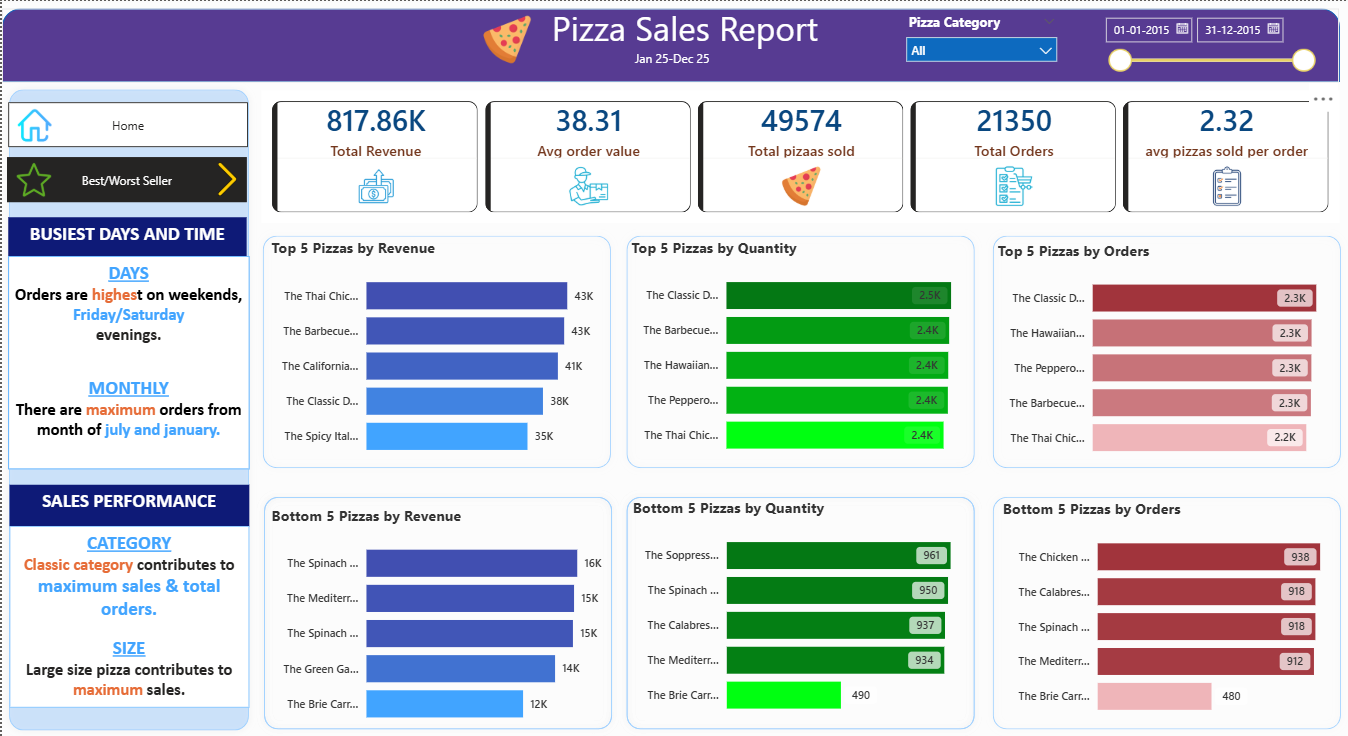

The dashboard page shown, as its layout file describes it:
{"tool":"powerbi","page":{"name":"Best/Worst Seller","canvas":[1500,820],"ordinal":1},"visuals":[{"type":"shape","box":[0,90.1,283,730.1],"z":0},{"type":"cardVisual","fields":{"Data":["pizza_sales.Total Revenue","pizza_sales.Avg order value","pizza_sales.Total pizaas sold","pizza_sales.Total Orders","pizza_sales.avg pizzas sold per order"]},"box":[284.1,94.7,1215.8,158.8],"z":1000},{"type":"shape","box":[0,8,1490.7,82],"z":2000},{"type":"textbox","box":[563.3,0,396.7,70],"z":3000},{"type":"textbox","box":[440,50,613.3,51.7],"z":4000},{"type":"image","box":[526.7,15,73.3,55],"z":5000},{"type":"shape","box":[283,254.1,403.6,275],"z":7000},{"type":"textbox","box":[6.4,241.2,265.3,43.4],"z":16000},{"type":"textbox","box":[6.4,284.6,268.5,238],"z":17000},{"type":"textbox","box":[8,538.7,266.9,46.6],"z":18000},{"type":"textbox","box":[8,585.3,266.9,202.6],"z":19000},{"type":"slicer","fields":{"Values":["pizza_sales.pizza_category"]},"box":[997,8,188.1,82],"z":20000},{"type":"slicer","fields":{"Values":["pizza_sales.order_date"]},"box":[1217.3,8,254.1,82],"z":21000},{"type":"shape","box":[688.3,254.1,403.6,275],"z":21001},{"type":"shape","box":[1096.7,254.1,403.6,275],"z":21002},{"type":"shape","box":[284.6,545.1,403.6,275],"z":21003},{"type":"shape","box":[284.6,545,403.6,275],"z":21004},{"type":"shape","box":[688.3,545.1,403.6,275],"z":21005},{"type":"shape","box":[688.3,545,403.6,275],"z":21006},{"type":"shape","box":[1096.7,545.1,403.6,275],"z":21007},{"type":"barChart","title":"Top 5 Pizzas by Revenue","fields":{"Category":["pizza_sales.pizza_name"],"Y":["pizza_sales.Total Revenue"]},"box":[295.9,263.7,390.8,258.9],"z":21008},{"type":"barChart","title":"Bottom 5 Pizzas by Revenue","fields":{"Category":["pizza_sales.pizza_name"],"Y":["pizza_sales.Total Revenue"]},"box":[295.9,561.2,390.8,258.9],"z":21009},{"type":"barChart","title":"Top 5 Pizzas by Quantity","fields":{"Category":["pizza_sales.pizza_name"],"Y":["pizza_sales.Total pizaas sold"]},"box":[696.3,263.7,390.8,257.3],"z":21010},{"type":"barChart","title":"Bottom 5 Pizzas by Quantity","fields":{"Category":["pizza_sales.pizza_name"],"Y":["pizza_sales.Total pizaas sold"]},"box":[697.9,553.2,389.2,257.3],"z":21011},{"type":"barChart","title":"Top 5 Pizzas by Orders","fields":{"Category":["pizza_sales.pizza_name"],"Y":["pizza_sales.Total Orders"]},"box":[1104.7,265.3,390.8,257.3],"z":21012},{"type":"barChart","title":"Bottom 5 Pizzas by Orders","fields":{"Category":["pizza_sales.pizza_name"],"Y":["pizza_sales.Total Orders"]},"box":[1109.6,554.8,390.8,257.3],"z":21013},{"type":"pageNavigator","box":[5.6,174.1,267.4,50.1],"z":21014},{"type":"pageNavigator","box":[7,112.8,267.4,50.1],"z":21015},{"type":"image","box":[207.5,179.7,87.7,37.6],"z":21016},{"type":"image","box":[0,119.8,72.4,37.6],"z":21017},{"type":"image","box":[2.8,179.7,65.5,39],"z":21018}]}

Visuals, with their boxes in screenshot pixels (x1, y1, x2, y2), scaled from the page's 1500x820 canvas onto the 1348x736 screenshot:
shape: detection(0, 81, 254, 735)
cardVisual - pizza_sales.Total Revenue x pizza_sales.Avg order value: detection(255, 85, 1347, 228)
shape: detection(0, 7, 1340, 81)
textbox: detection(506, 0, 863, 63)
textbox: detection(395, 45, 947, 91)
image: detection(473, 13, 539, 63)
shape: detection(254, 228, 617, 475)
textbox: detection(6, 216, 244, 255)
textbox: detection(6, 255, 247, 469)
textbox: detection(7, 484, 247, 525)
textbox: detection(7, 525, 247, 707)
slicer - pizza_sales.pizza_category: detection(896, 7, 1065, 81)
slicer - pizza_sales.order_date: detection(1094, 7, 1322, 81)
shape: detection(619, 228, 981, 475)
shape: detection(986, 228, 1347, 475)
shape: detection(256, 489, 618, 735)
shape: detection(256, 489, 618, 735)
shape: detection(619, 489, 981, 735)
shape: detection(619, 489, 981, 735)
shape: detection(986, 489, 1347, 735)
"Top 5 Pizzas by Revenue" barChart: detection(266, 237, 617, 469)
"Bottom 5 Pizzas by Revenue" barChart: detection(266, 504, 617, 735)
"Top 5 Pizzas by Quantity" barChart: detection(626, 237, 977, 468)
"Bottom 5 Pizzas by Quantity" barChart: detection(627, 497, 977, 727)
"Top 5 Pizzas by Orders" barChart: detection(993, 238, 1344, 469)
"Bottom 5 Pizzas by Orders" barChart: detection(997, 498, 1347, 729)
pageNavigator: detection(5, 156, 245, 201)
pageNavigator: detection(6, 101, 247, 146)
image: detection(186, 161, 265, 195)
image: detection(0, 108, 65, 141)
image: detection(3, 161, 61, 196)
